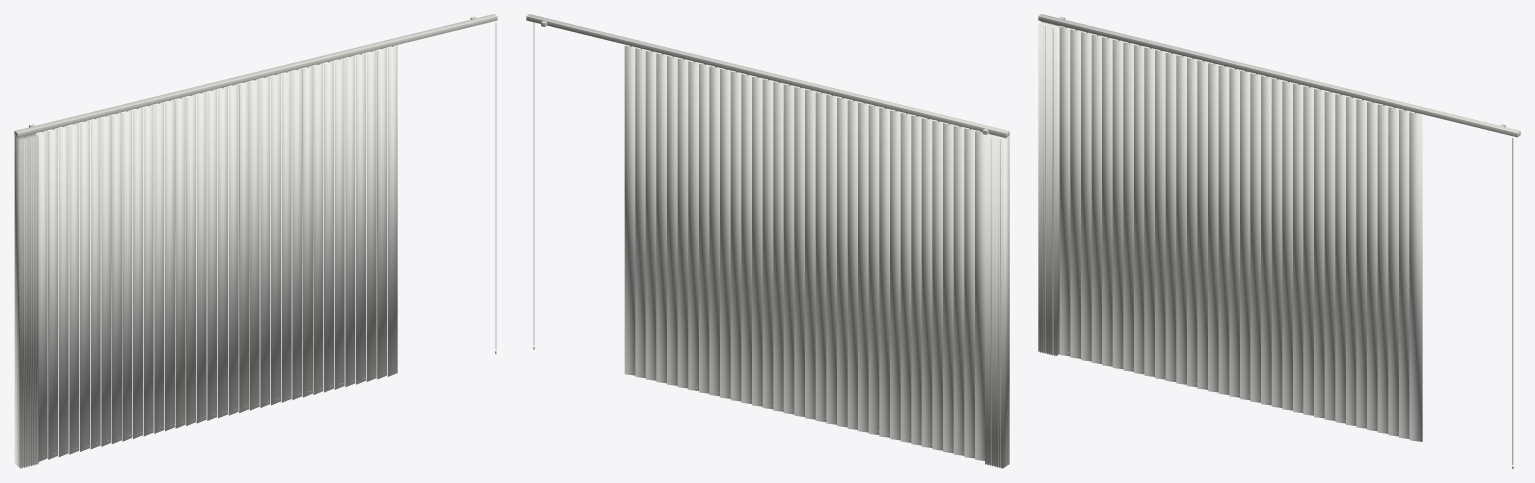
The model's file is cortina_vertical_360_c75.glb.
3 views of the same model, side by side, from view 1: azimuth 30°, elevation 25°; view 2: azimuth 150°, elevation 25°; view 3: azimuth 330°, elevation 25° (orthographic).
Visible parts, largest first — view 1: cortina_vertical_360_c75; view 2: cortina_vertical_360_c75; view 3: cortina_vertical_360_c75.
Part boxes in pixels (x1,y1,x2,y2): cortina_vertical_360_c75: (14, 14, 497, 468); cortina_vertical_360_c75: (526, 14, 1009, 468); cortina_vertical_360_c75: (1038, 14, 1520, 468).
Size of the model in its own units: 3.59 by 2.4 by 0.0995.
Materials: 3 (1 with a texture image).
